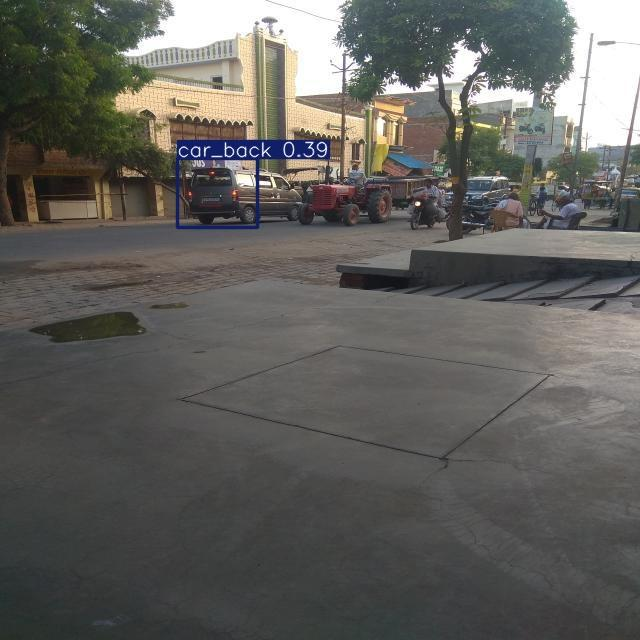car_back: (180, 163, 306, 232)
car_front: (441, 173, 516, 220)
tractor_front: (294, 158, 432, 232)
two_wheeler_front: (404, 183, 447, 230)
